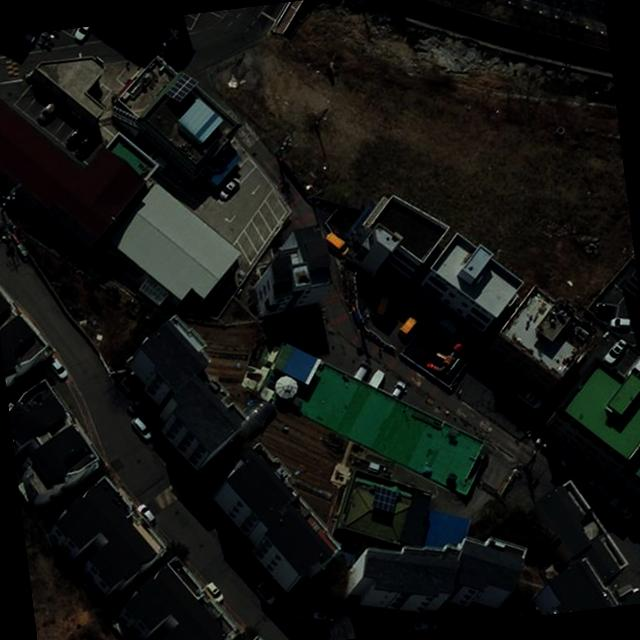solar: (161, 70, 202, 105), (369, 484, 402, 515)
